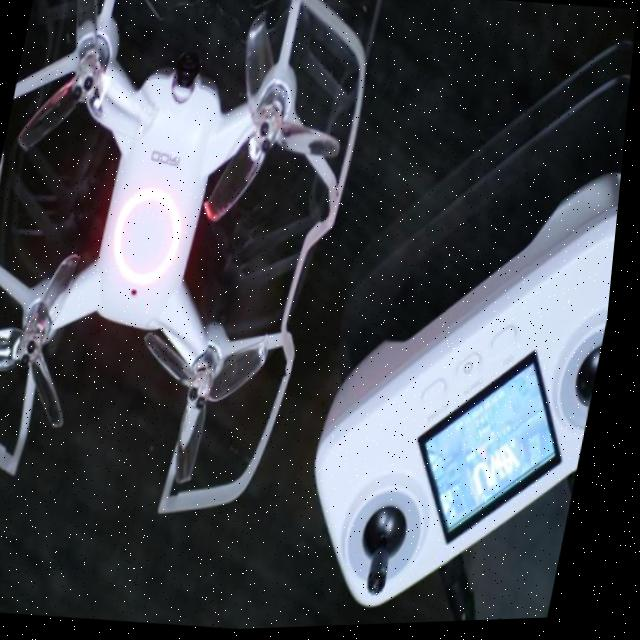drones: (0, 0, 401, 546)
